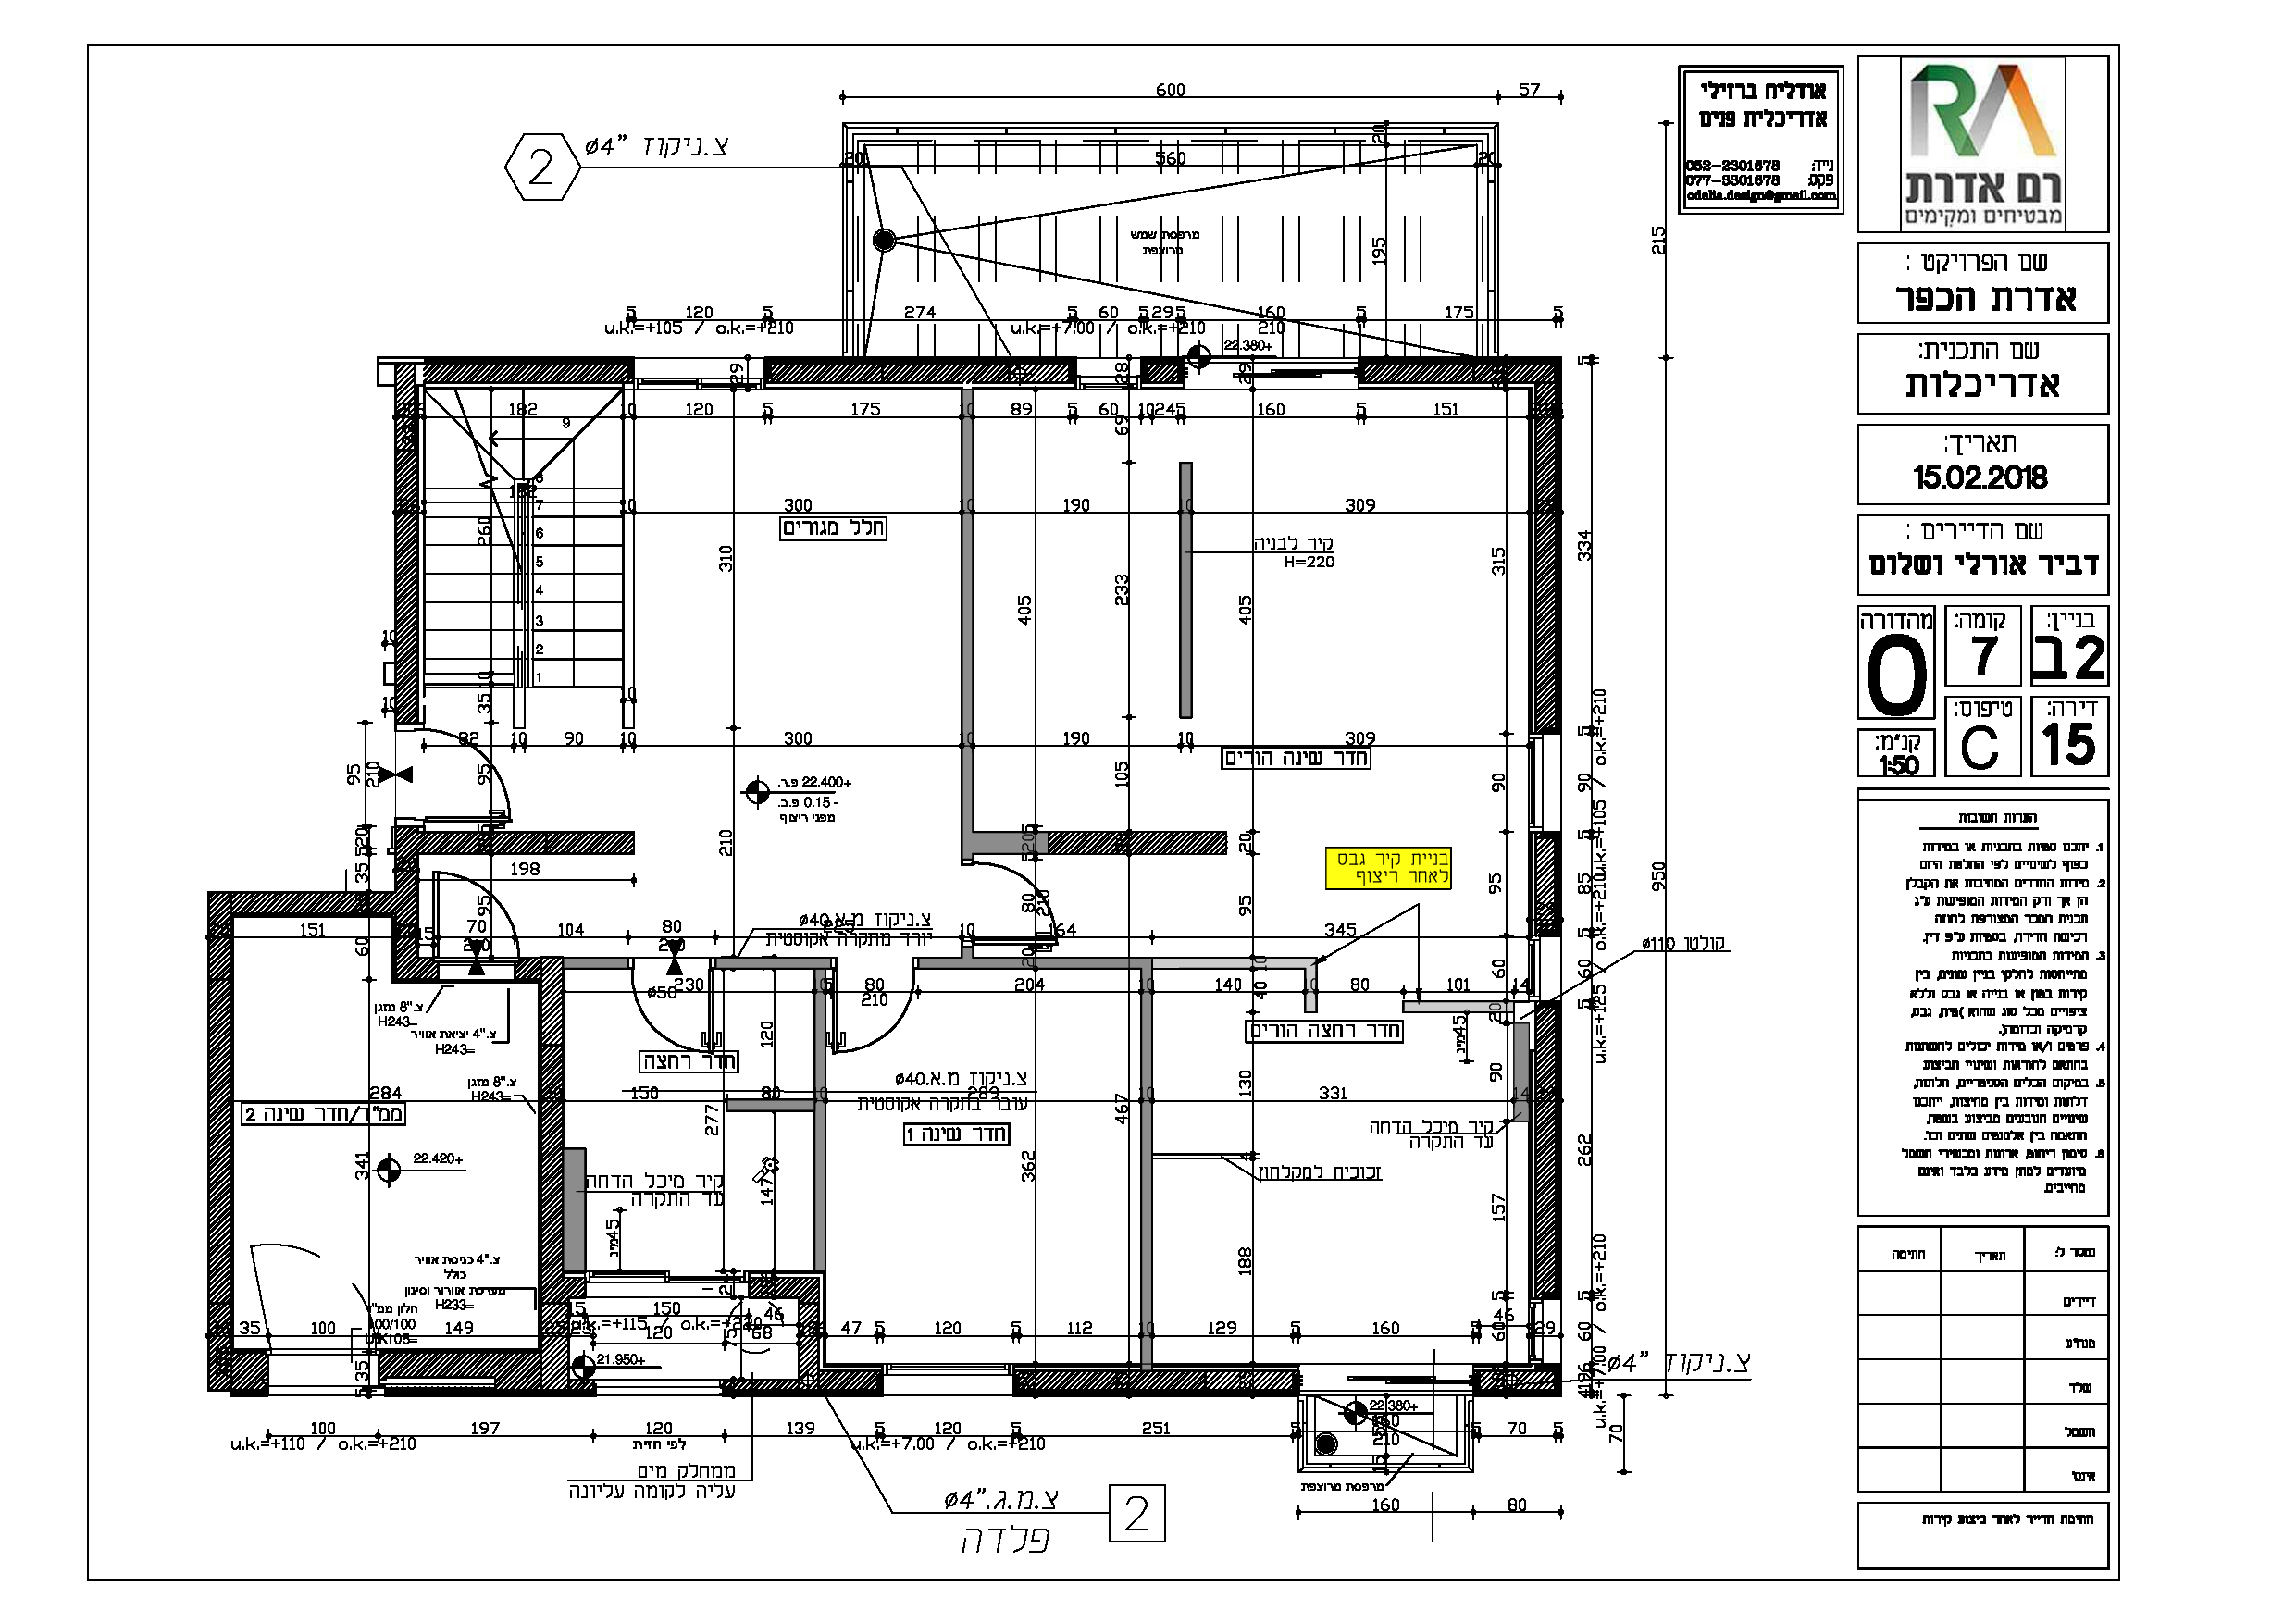door: (986, 857, 1073, 949), (620, 975, 718, 1049), (429, 857, 523, 933), (831, 984, 910, 1059)
wall: (209, 892, 234, 1321), (1534, 367, 1558, 732), (397, 365, 420, 724), (541, 957, 564, 1300), (768, 362, 1063, 383), (1049, 829, 1217, 852), (379, 1354, 534, 1377), (1534, 1103, 1553, 1286), (495, 833, 632, 854), (429, 364, 617, 378), (813, 1100, 824, 1258)
window: (882, 1356, 1014, 1409), (1523, 732, 1567, 831), (1525, 936, 1569, 1003)
